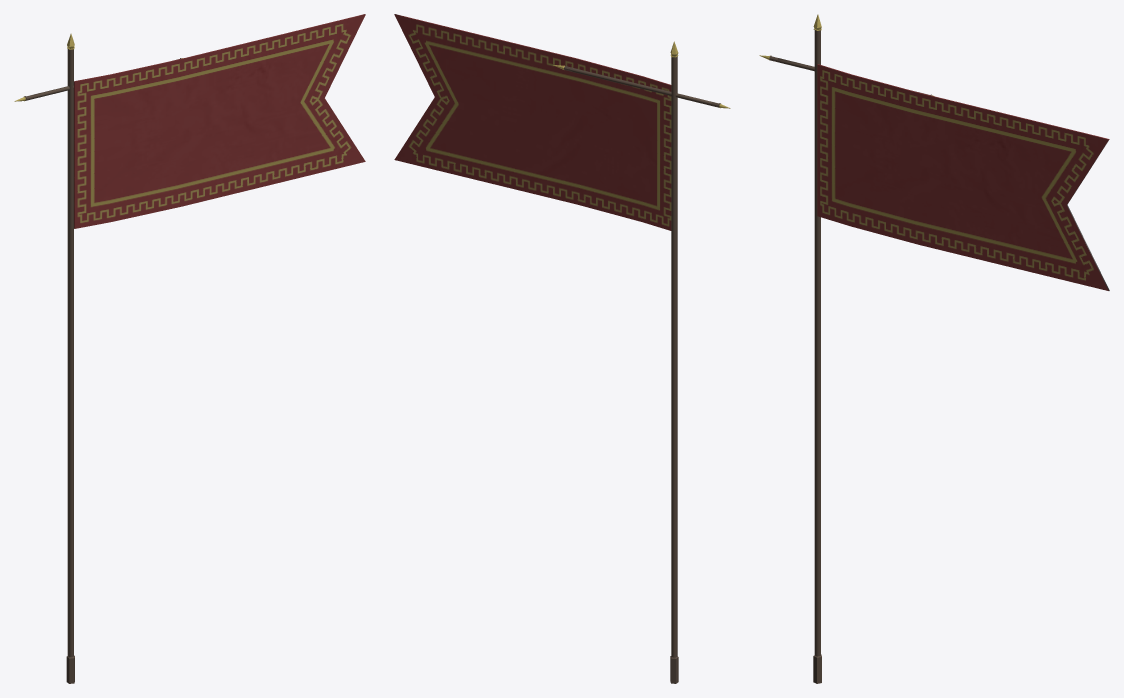
File: FlagHorizontal.fbx
3 renders of one model, left to right at view 1: azimuth 30°, elevation 25°; view 2: azimuth 150°, elevation 25°; view 3: azimuth 330°, elevation 25°, orthographic. The views are drawn at different scales.
Parts seen in each view (by area): view 1: Flag001, Cylinder019; view 2: Flag001, Cylinder019; view 3: Flag001, Cylinder019.
Boxes of the visible parts, left/top/right/bottom form: Flag001: left=14, top=14, right=365, bottom=228; Cylinder019: left=66, top=33, right=74, bottom=683; Flag001: left=394, top=14, right=730, bottom=230; Cylinder019: left=670, top=41, right=678, bottom=683; Flag001: left=759, top=55, right=1109, bottom=290; Cylinder019: left=813, top=14, right=821, bottom=683.
Size of the model in its own units: 5.9 by 10.57 by 0.2411.
Materials: 1 (1 with a texture image).
